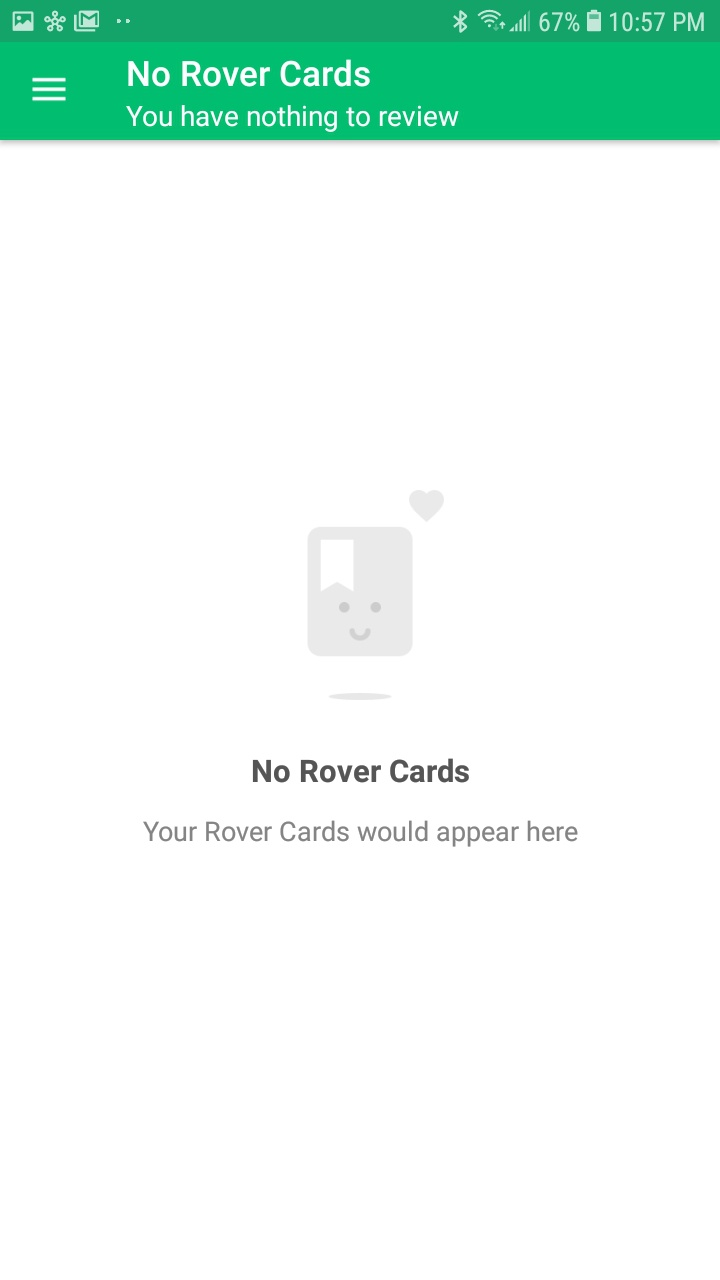Icon: (32, 77, 68, 103)
Image: (307, 489, 445, 701)
Text: (143, 820, 578, 848), (126, 105, 460, 134), (128, 59, 371, 89), (253, 758, 470, 784)
UpperTaskBar: (1, 1, 720, 43)
